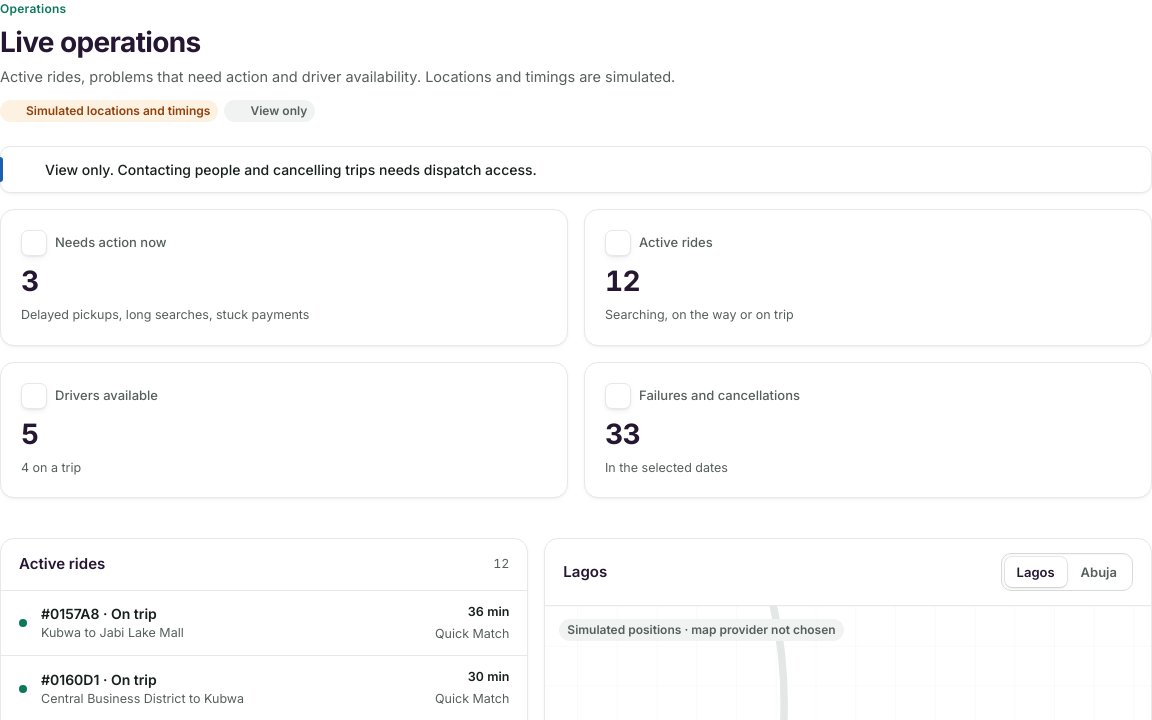
Test case: Live operations and rides › Live shows the honest simulated map and opens a ride sheet
What coordinates should you click on to do the following:
click the button "#0157A8 · On trip Kubwa to Jabi Lake Mall 36 min Quick Match"
I would click on:
 (70, 614)
Its box is [1, 591, 527, 655].
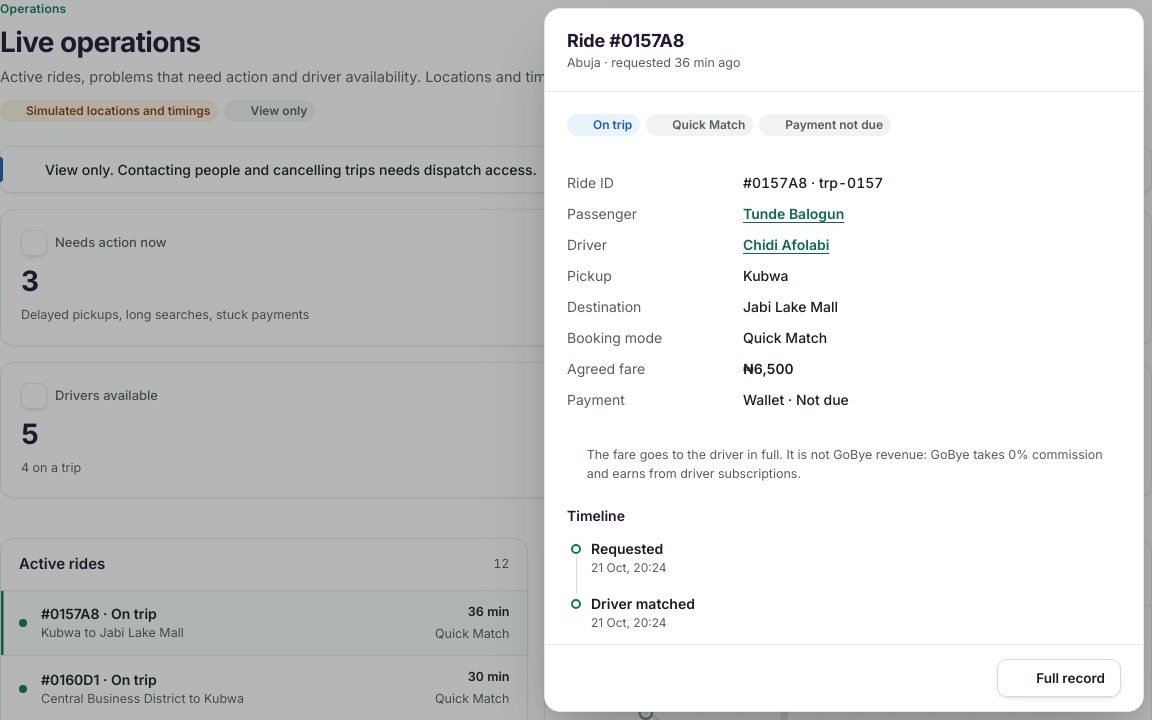
Check: the text "Ride ID" is shown, box [567, 174, 614, 191]
Check: the text "Passenger" is shown, box [567, 205, 637, 222]
Check: the text "Driver" is shown, box [567, 236, 607, 253]
